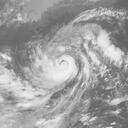cyclone: (16, 7, 113, 112)
